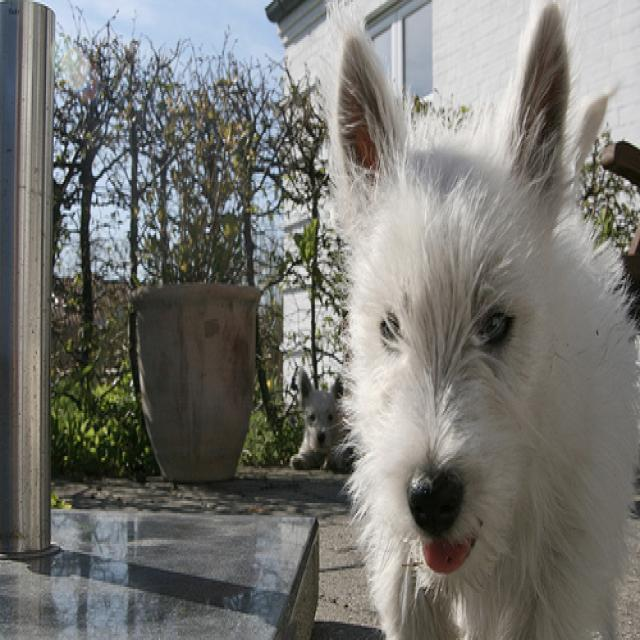dog-scottish_terrier: (307, 2, 637, 636)
